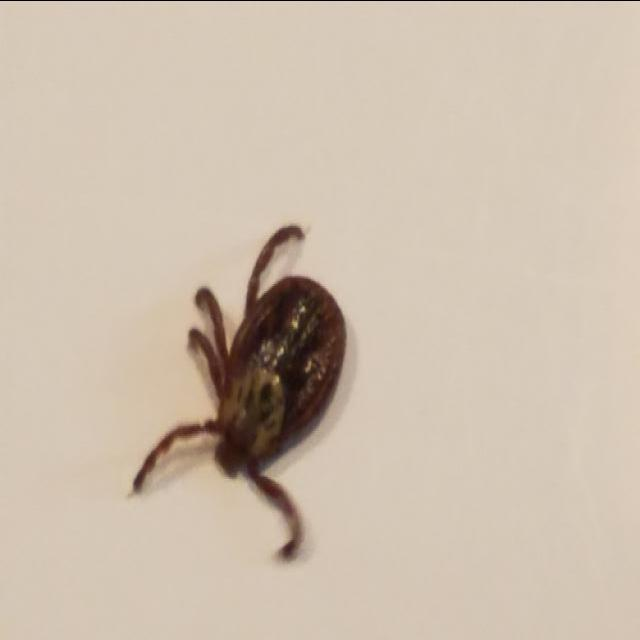Dermacentor Reticulatus-F: (133, 224, 345, 560)
